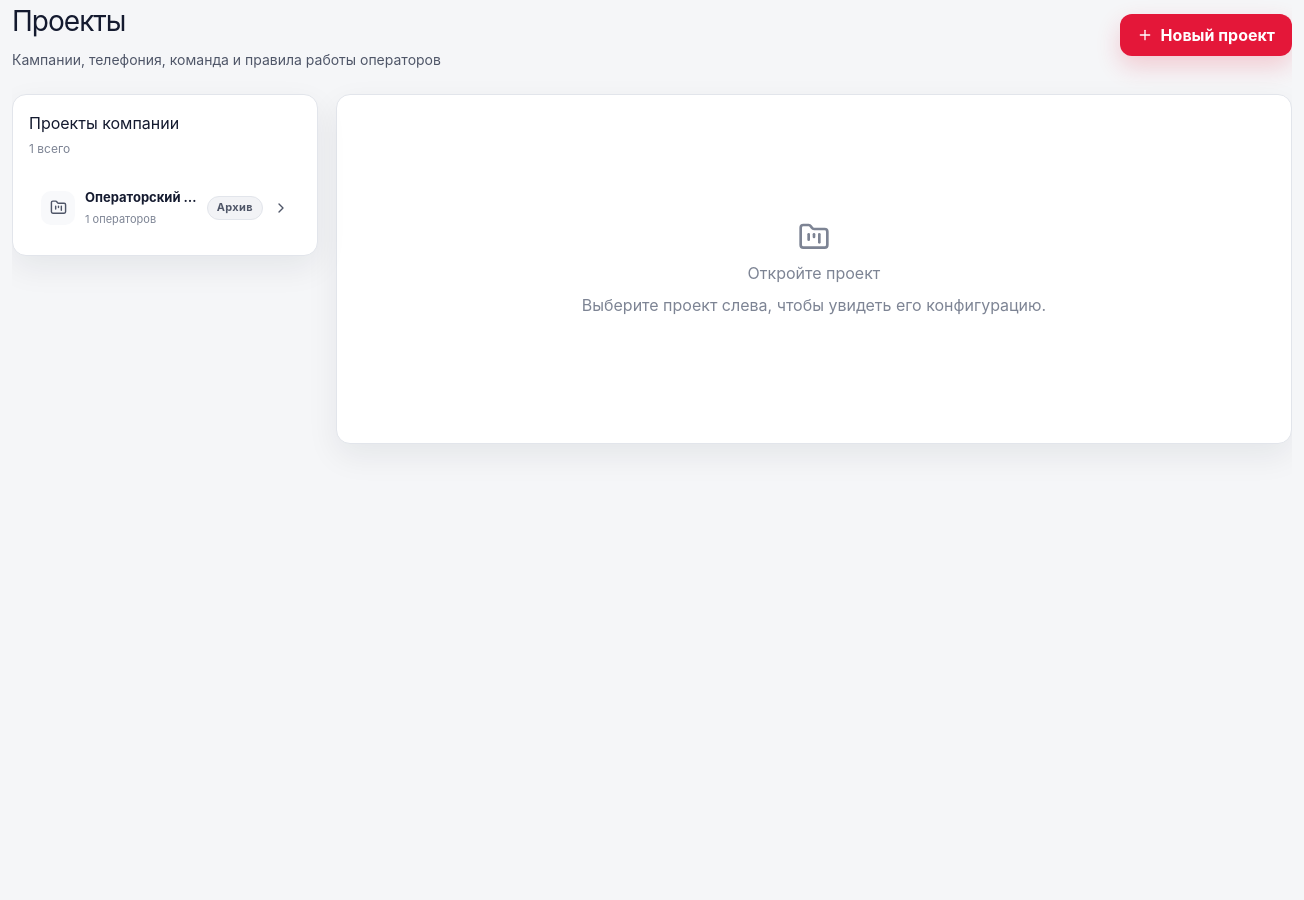
Test: project permissions › opens an archived project without offering a duplicate archive action
Click the button "Операторский проект 1 операторов Архив" at (165, 208), box top-left (29, 176), bottom-right (301, 239)
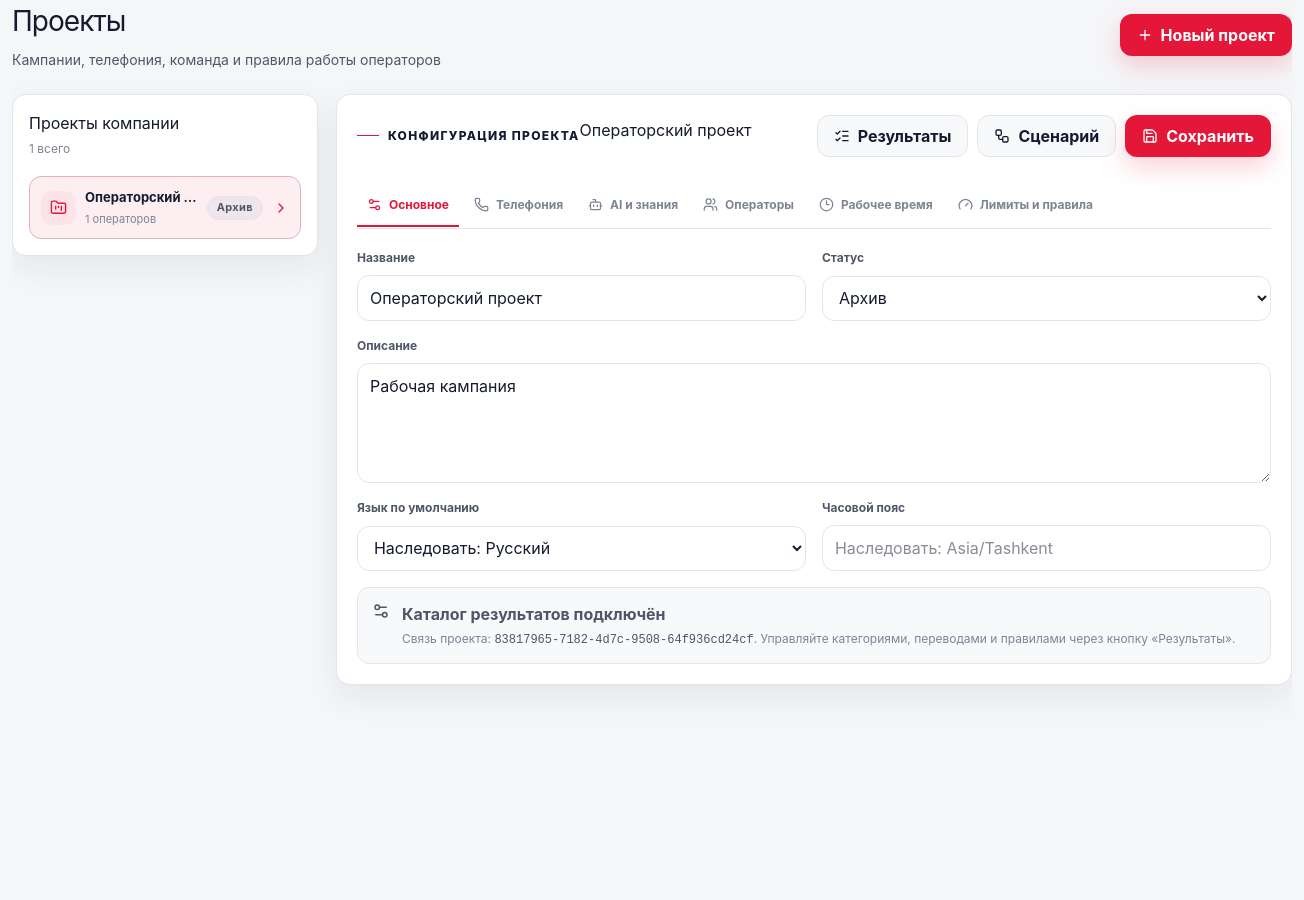
expect the text "Архив" is shown: met, box top-left (207, 196), bottom-right (263, 220)
expect the text "Конфигурация проекта" is shown: met, box top-left (357, 126), bottom-right (580, 144)
